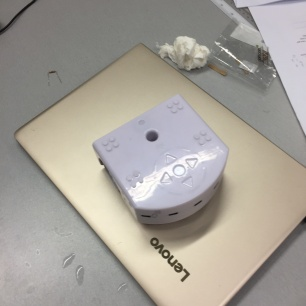thymio: (91, 91, 241, 224)
